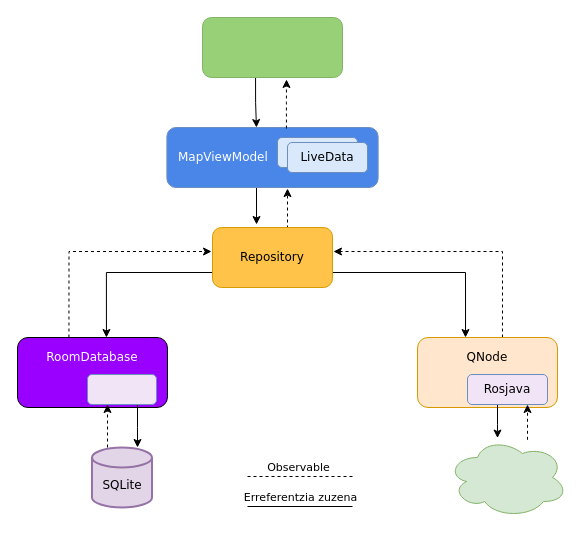
This 585x535 diagram has some shape labels left out. Each missing label, with the centre of its shape:
Room: (121,389)
ROS: (507,477)
RouteSelectActivity: (272,47)
